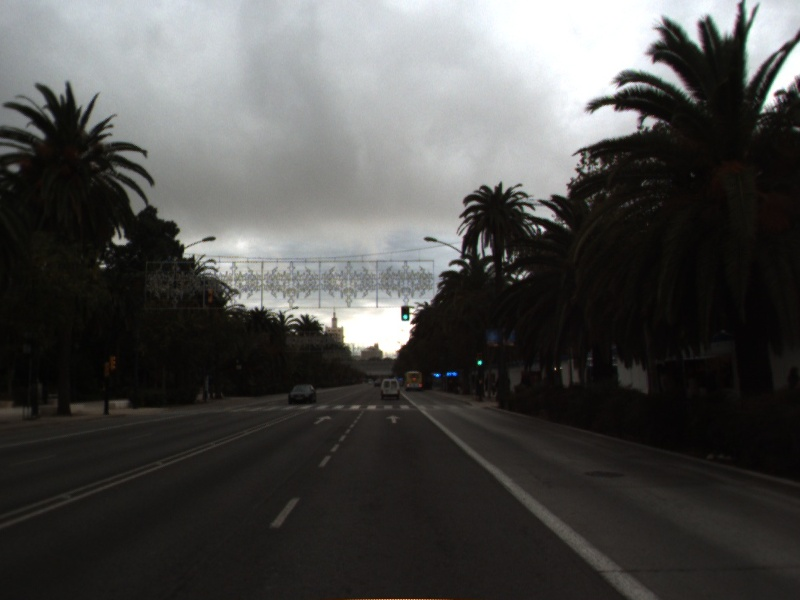STRAIGHT: (312, 413, 334, 426), (384, 413, 403, 425)
